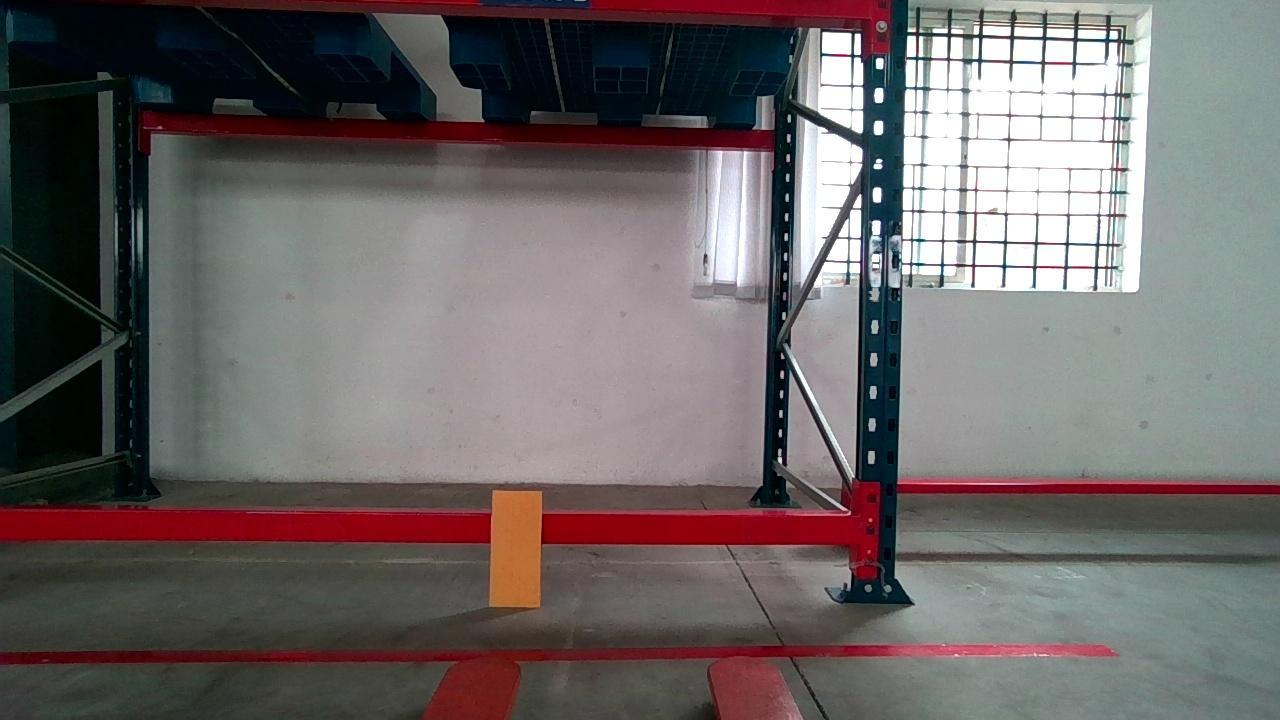h_rack: (0, 509, 861, 544)
orange_strip: (488, 490, 544, 607)
red_line: (1, 639, 1120, 667)
